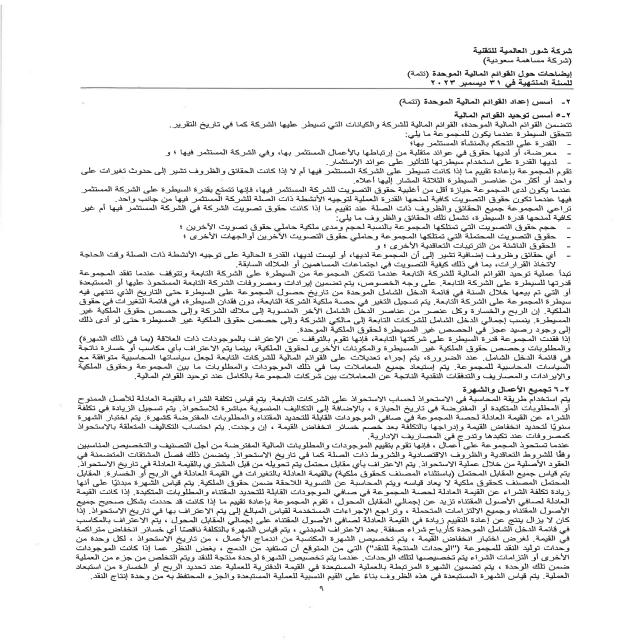notes: (404, 66, 582, 80)
text: (21, 92, 588, 598)
